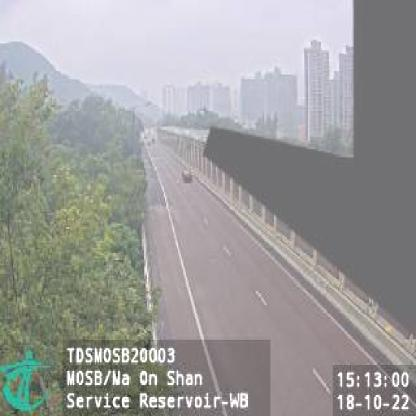Car: (180, 165, 194, 181)
